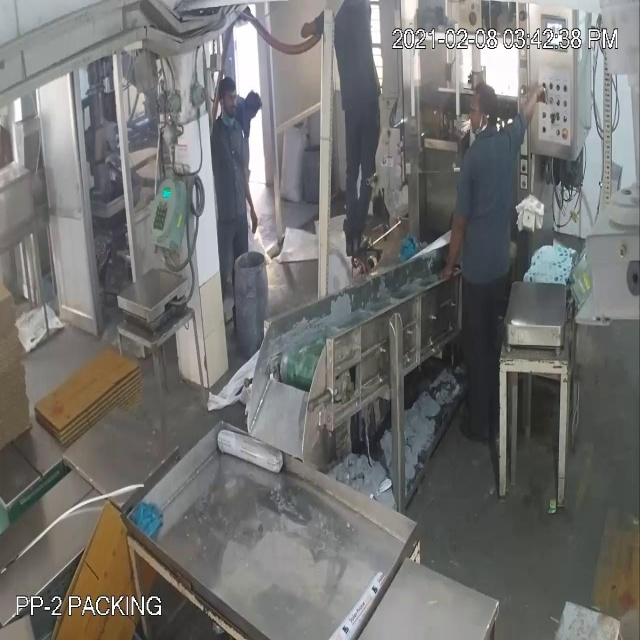Sin_guantes: (436, 195, 476, 291), (516, 82, 545, 140), (242, 157, 262, 231)
